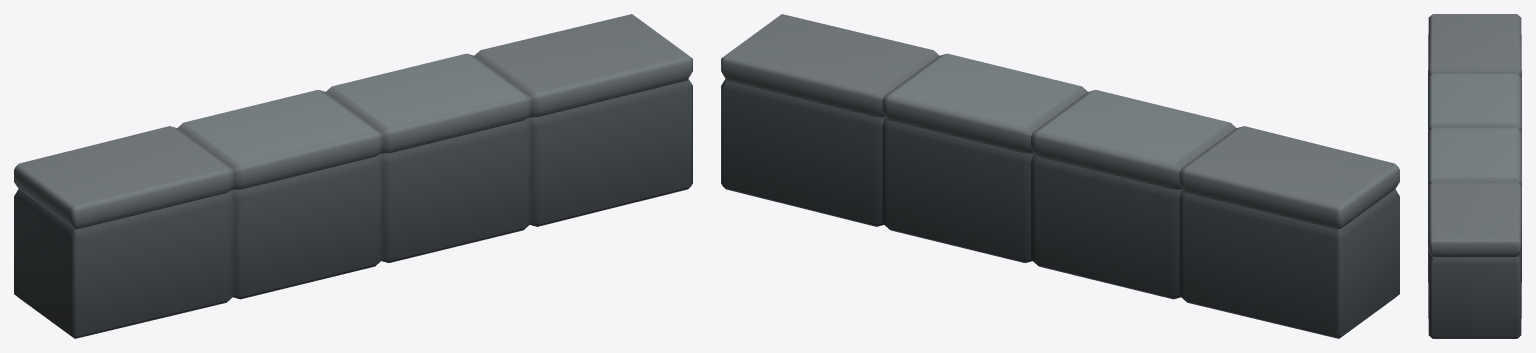
File: fence_001.glb
3 views of the same model, side by side, from view 1: azimuth 30°, elevation 25°; view 2: azimuth 150°, elevation 25°; view 3: azimuth 270°, elevation 25° (orthographic). The views are drawn at different scales.
Visible parts, largest first — view 1: fence_001; view 2: fence_001; view 3: fence_001.
Part boxes in pixels (bbox=[...]): fence_001: bbox=[14, 14, 692, 338]; fence_001: bbox=[721, 14, 1399, 338]; fence_001: bbox=[1428, 14, 1521, 338].
Bounding box in the file's own units: 4.19 × 0.8697 × 0.7294.
Materials: 1 (1 with a texture image).
